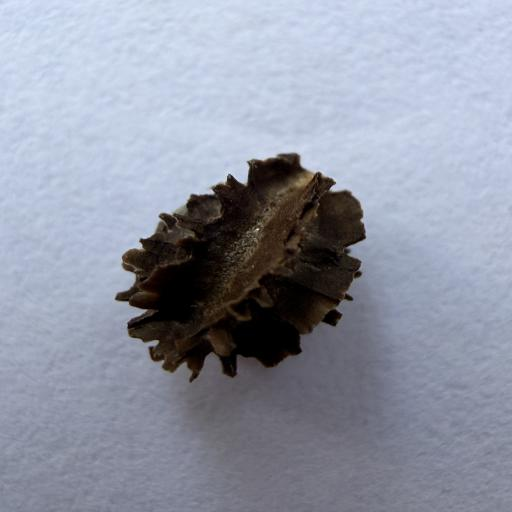papaya_seed: (107, 139, 367, 392)
